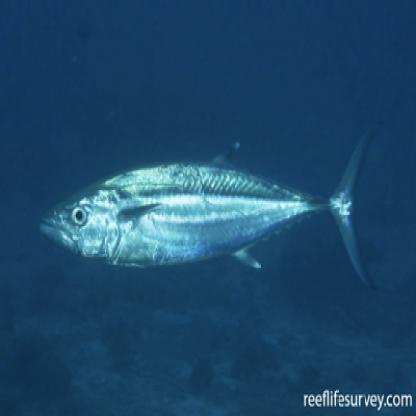Scombridae -Tunas-: (34, 118, 388, 297)
